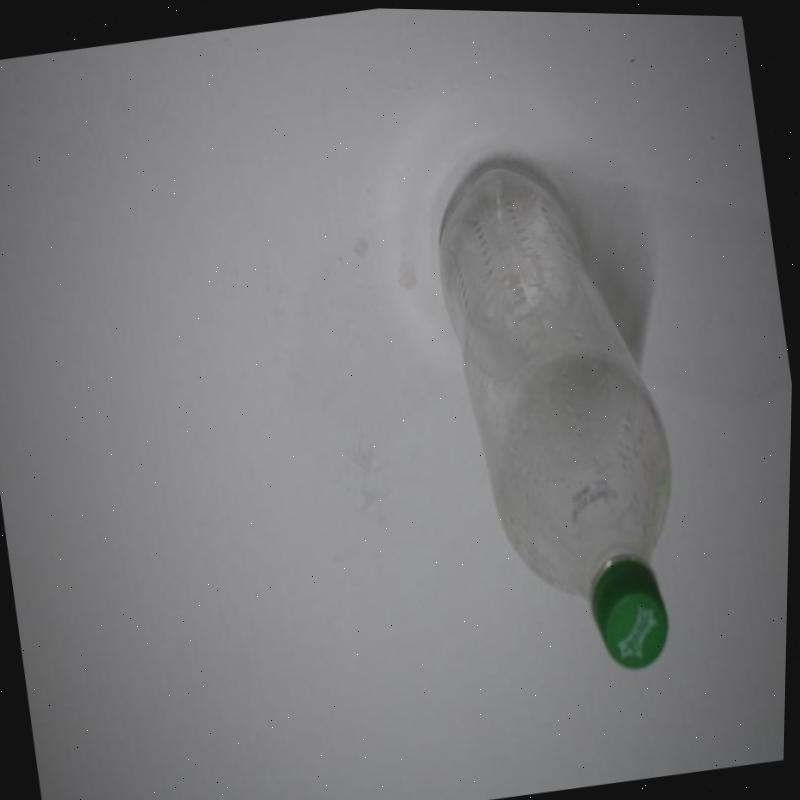botella: (403, 130, 715, 692)
